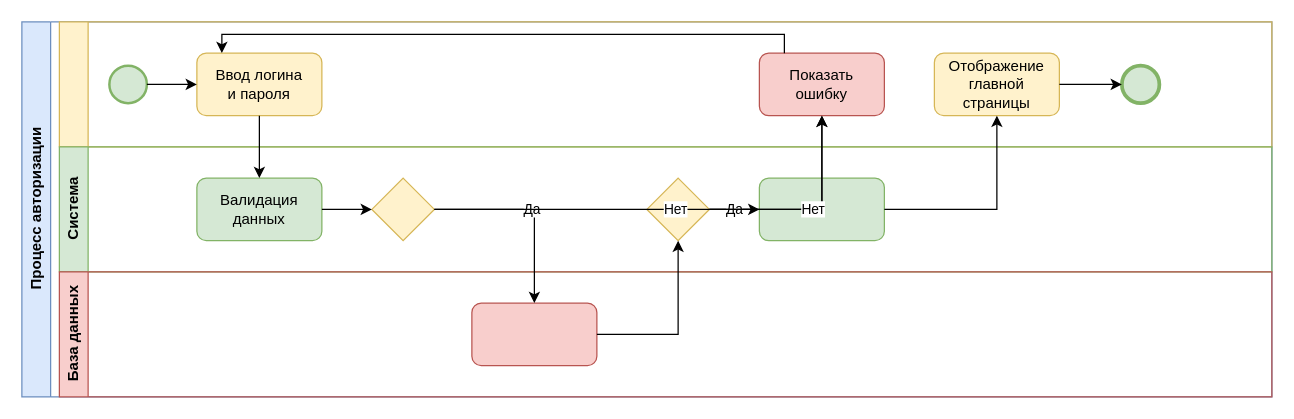
The diagram is 1294 pixels wide and 419 high, and some of its shapes have lost their labels. Each missing label, with the box of its shape:
Генерация токена: (758, 177, 884, 241)
Пользователь: (58, 21, 1272, 147)
Проверка учетных данных: (471, 302, 597, 366)
